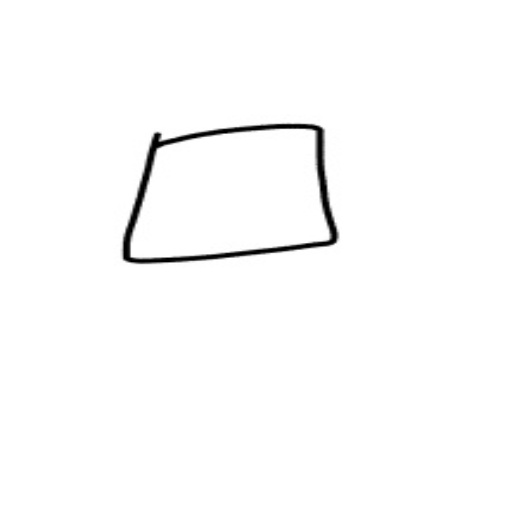square: (103, 117, 352, 279)
